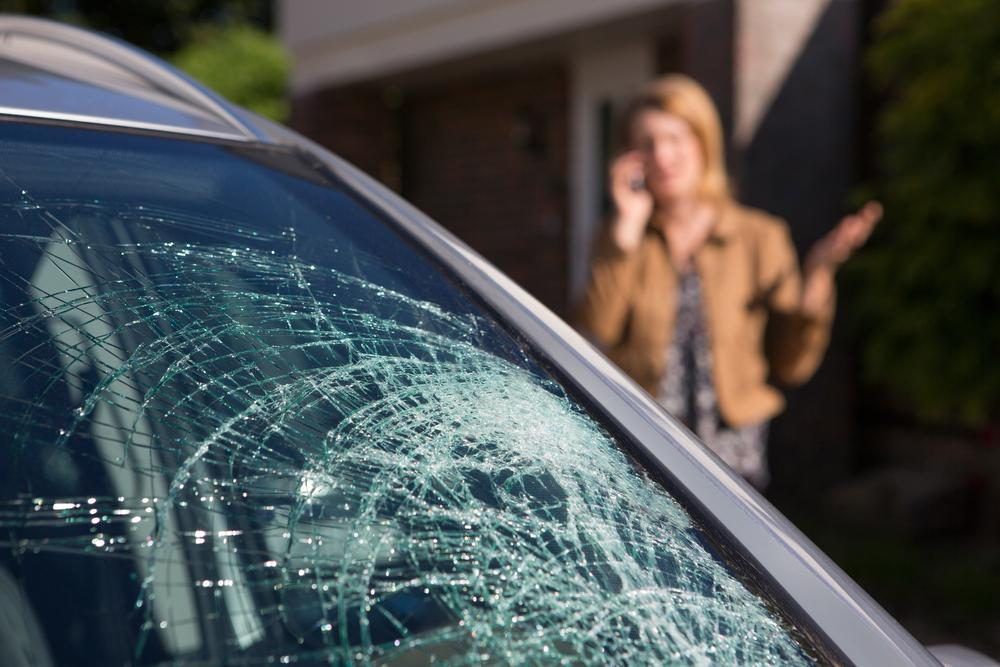glass shatter: (0, 119, 842, 667)
